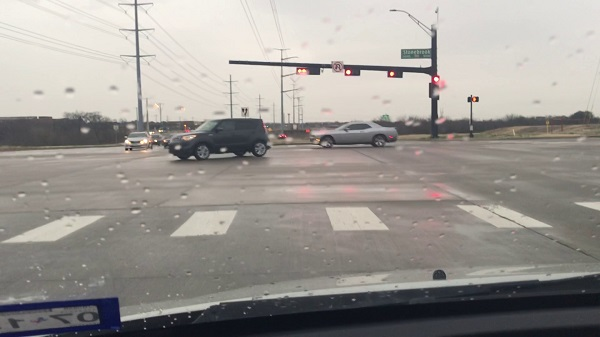car: (171, 118, 272, 158), (309, 120, 398, 149), (123, 131, 151, 147)
